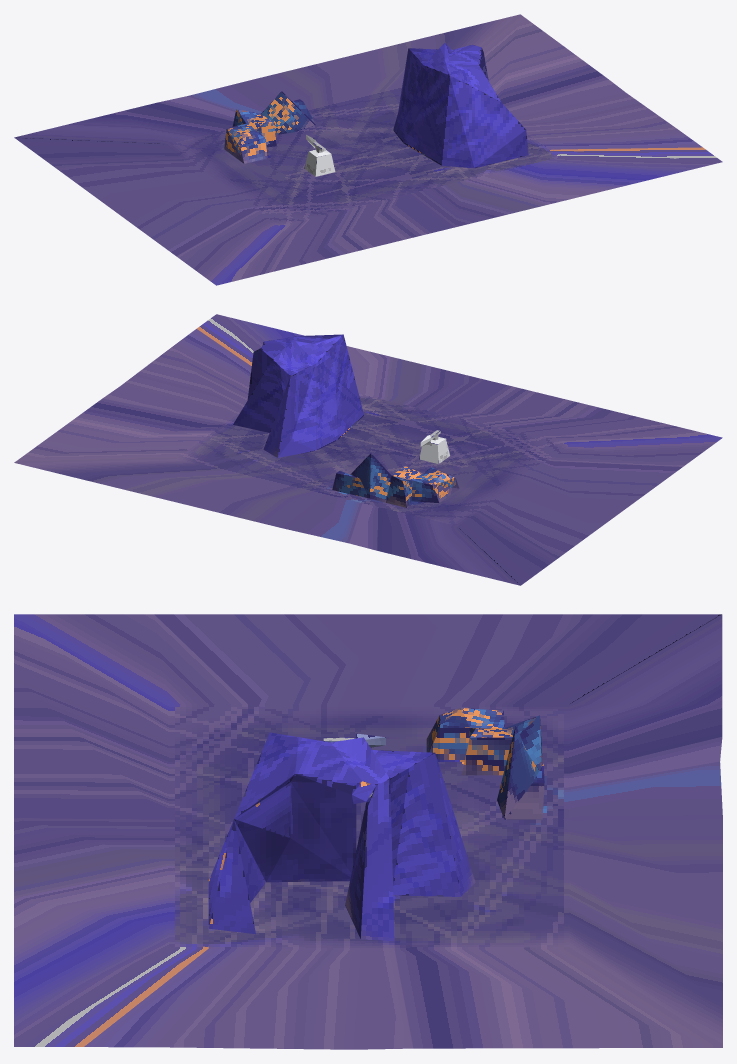
The model's file is test_map.glb.
The picture shows the model from 3 angles, top to bottom: view 1: azimuth 30°, elevation 25°; view 2: azimuth 150°, elevation 25°; view 3: azimuth 270°, elevation 25°; orthographic projection. The views are drawn at different scales.
Parts seen in each view (by area): view 1: env; view 2: env; view 3: env.
Boxes of the visible parts, x1=… form: env: x1=14, y1=14, x2=722, y2=285; env: x1=14, y1=314, x2=722, y2=585; env: x1=14, y1=614, x2=722, y2=1049.
Size of the model in its own units: 27.91 by 4.81 by 19.32.
1 material, 1 textured.
